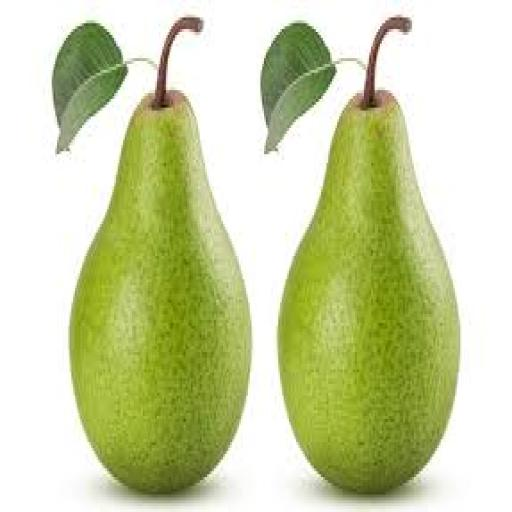Pear: (279, 18, 460, 491), (70, 18, 251, 491)
